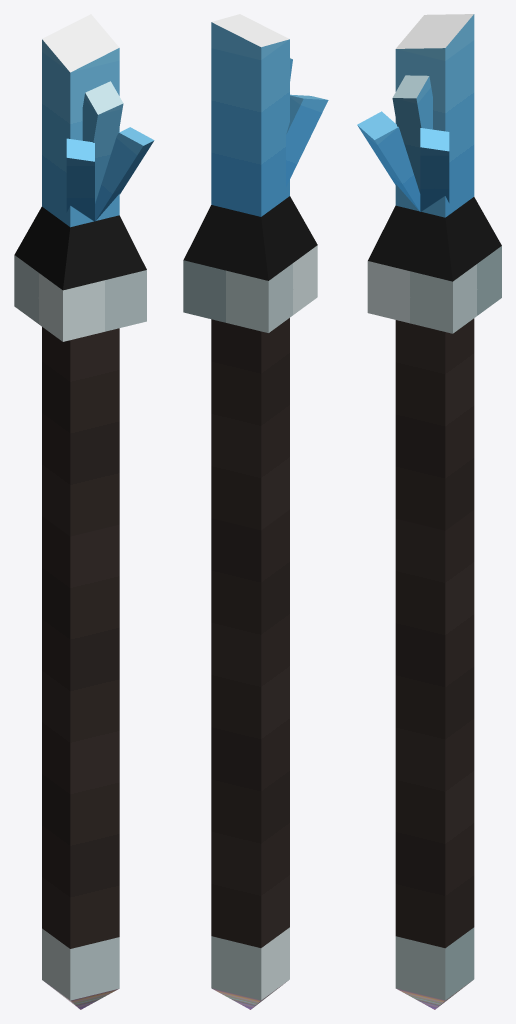
The model's file is wand_blueice.obj.
3 views of the same model, side by side, from view 1: azimuth 30°, elevation 25°; view 2: azimuth 150°, elevation 25°; view 3: azimuth 330°, elevation 25° (orthographic).
Parts seen in each view (by area): view 1: WAND_VAR20_Cube.030; view 2: WAND_VAR20_Cube.030; view 3: WAND_VAR20_Cube.030.
Boxes of the visible parts, x1,y1,x2,y2 form: WAND_VAR20_Cube.030: (14, 14, 154, 1009); WAND_VAR20_Cube.030: (183, 14, 328, 1009); WAND_VAR20_Cube.030: (357, 14, 501, 1009).
Bounding box in the file's own units: 0.1137 × 1.19 × 0.1379.
